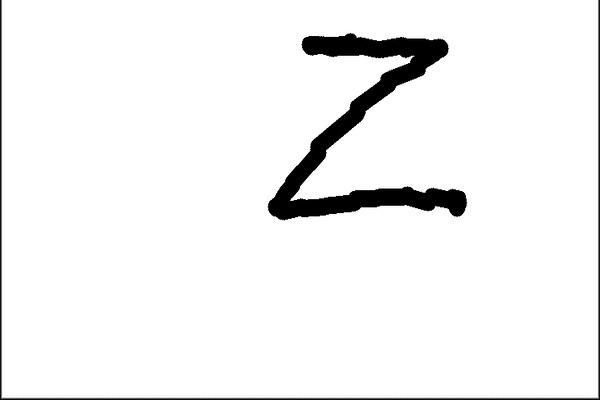Z: (258, 27, 475, 231)
